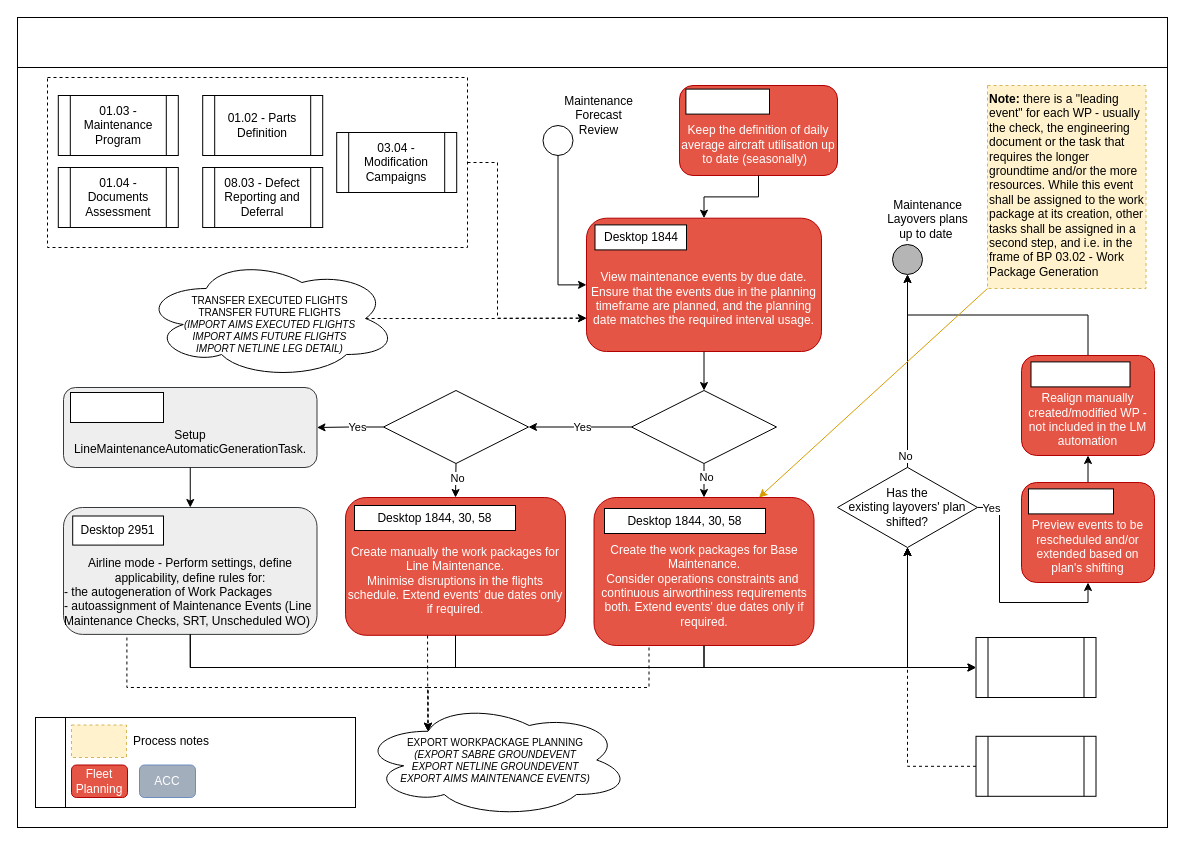
This 1185x845 diagram has some shape labels left out. Here are the shapes that lost their labels. From the top down, the centre of each, then its label:
point 592,42: 03.01 Planning
point 727,101: Desktop 308
point 1080,374: Desktop 30, 58
point 117,407: Desktop 2606
point 455,427: LM Automation?
point 703,427: Line maintenance?
point 1071,501: Desktop 956
point 1035,667: 03.02 - Work Package Generation
point 98,741: Note: ...
point 50,762: LEGEND
point 1035,765: 08.02 - Performing Maintenance
